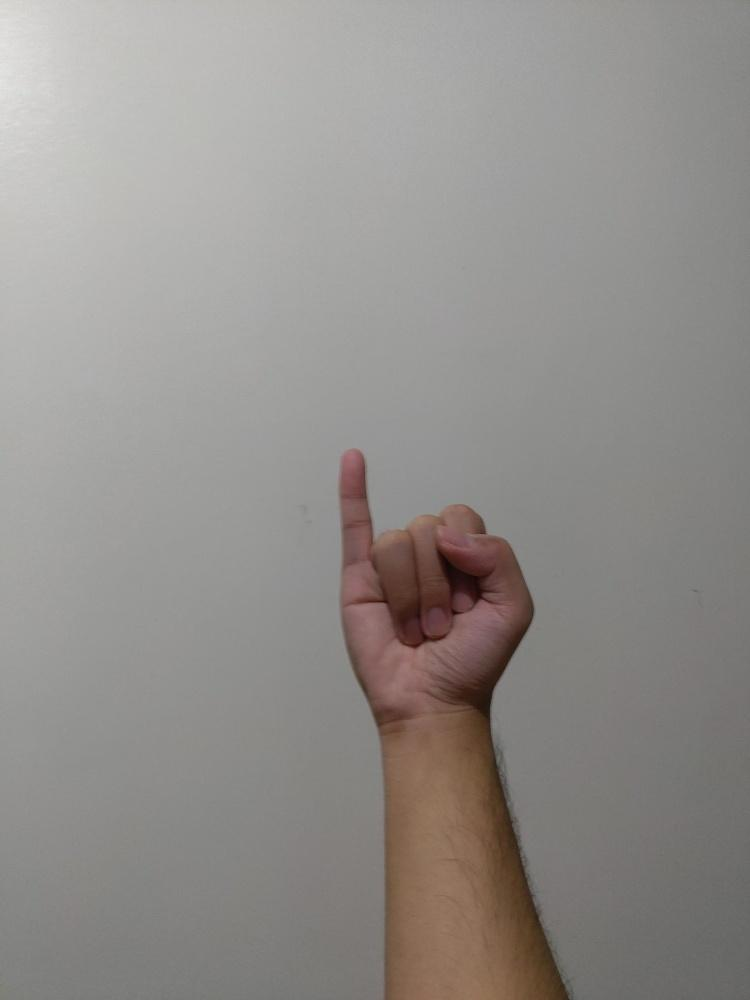i: (335, 444, 535, 728)
